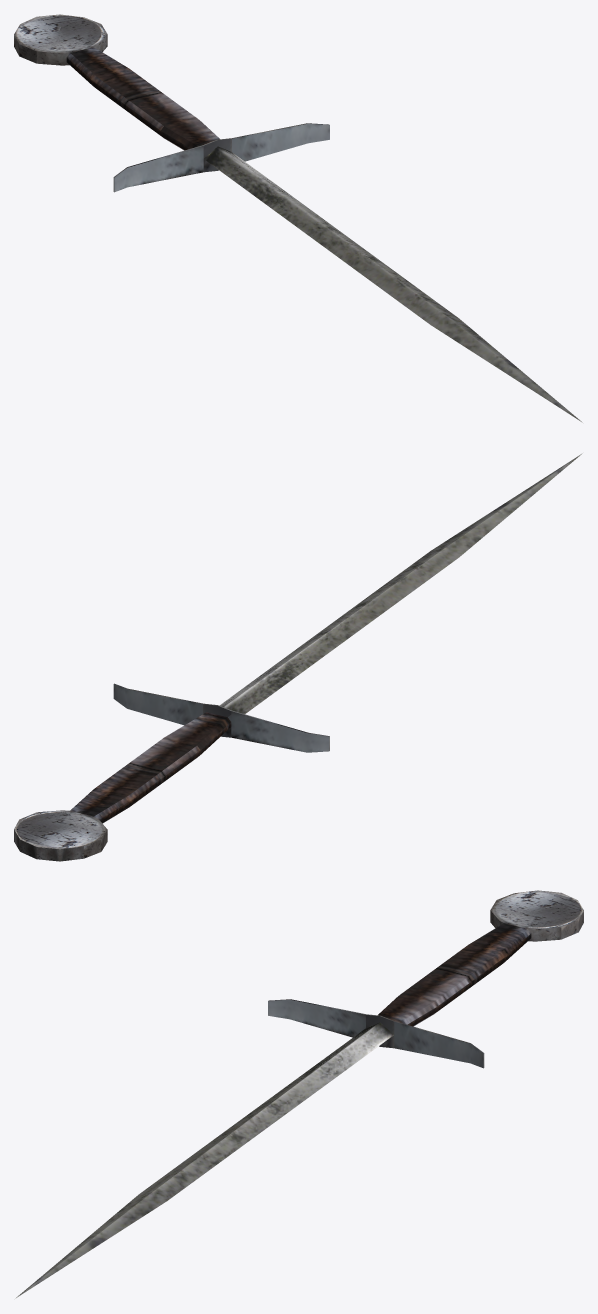
Rendered from mail-breaker-a.fbx.
The picture shows the model from 3 angles, top to bottom: view 1: azimuth 30°, elevation 25°; view 2: azimuth 150°, elevation 25°; view 3: azimuth 330°, elevation 25°; orthographic projection.
Visible parts, largest first — view 1: mail-breaker-a; view 2: mail-breaker-a; view 3: mail-breaker-a.
Part boxes in pixels (left/top/right/bottom): mail-breaker-a: left=14, top=14, right=582, bottom=422; mail-breaker-a: left=14, top=453, right=582, bottom=861; mail-breaker-a: left=15, top=890, right=583, bottom=1298.
Size of the model in its own units: 18.36 by 2.5 by 80.73.
